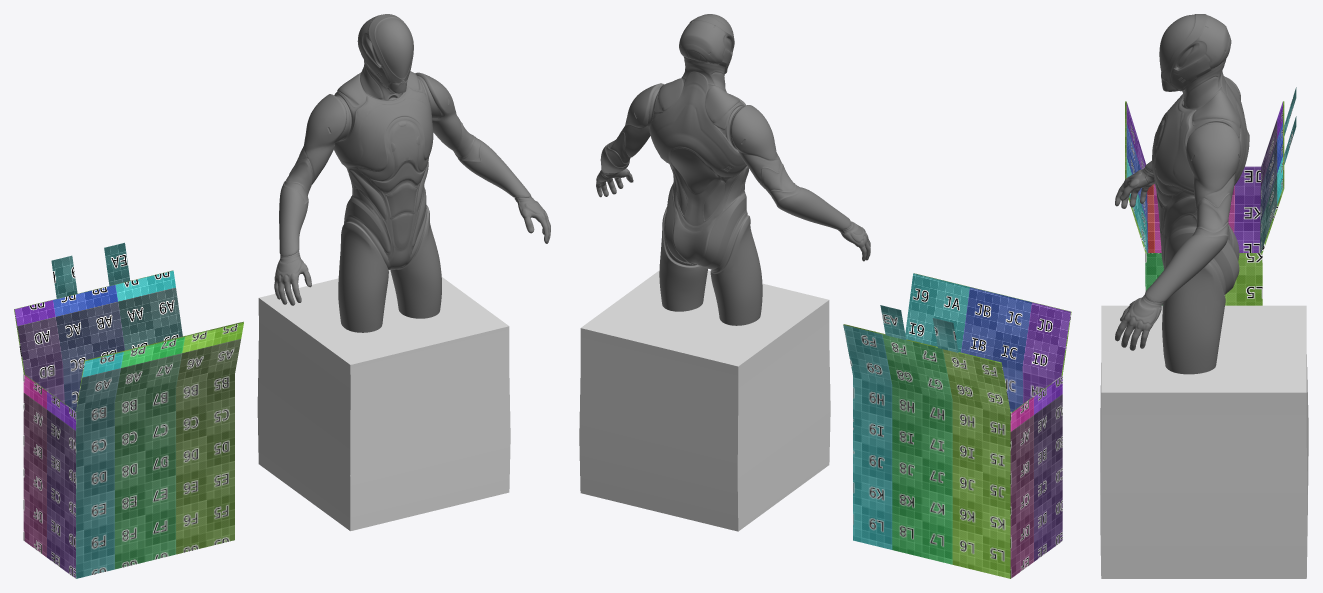
File: CAJA_CARTON.glb
3 views of the same model, side by side, from view 1: azimuth 30°, elevation 25°; view 2: azimuth 150°, elevation 25°; view 3: azimuth 270°, elevation 25° (orthographic). The views are drawn at different scales.
Visible parts, largest first — view 1: Box.002, Box.001, Human_Manny_01_V001; view 2: Box.002, Box.001, Human_Manny_01_V001; view 3: Box.001, Human_Manny_01_V001, Box.002.
Part boxes in pixels (left/top/right/bottom): Box.002: left=14, top=242, right=243, bottom=578; Box.001: left=257, top=270, right=510, bottom=531; Human_Manny_01_V001: left=274, top=14, right=550, bottom=332; Box.002: left=843, top=273, right=1071, bottom=578; Box.001: left=579, top=270, right=830, bottom=531; Human_Manny_01_V001: left=596, top=14, right=870, bottom=325; Box.001: left=1100, top=305, right=1308, bottom=578; Human_Manny_01_V001: left=1115, top=14, right=1249, bottom=374; Box.002: left=1125, top=87, right=1296, bottom=305.
Size of the model in its own units: 1.92 by 1.81 by 0.6575.
Materials: 3 (1 with a texture image).
